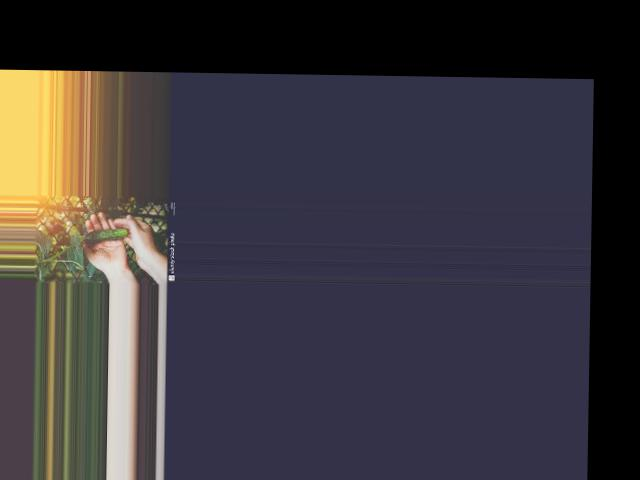cucumber: (85, 227, 128, 243)
